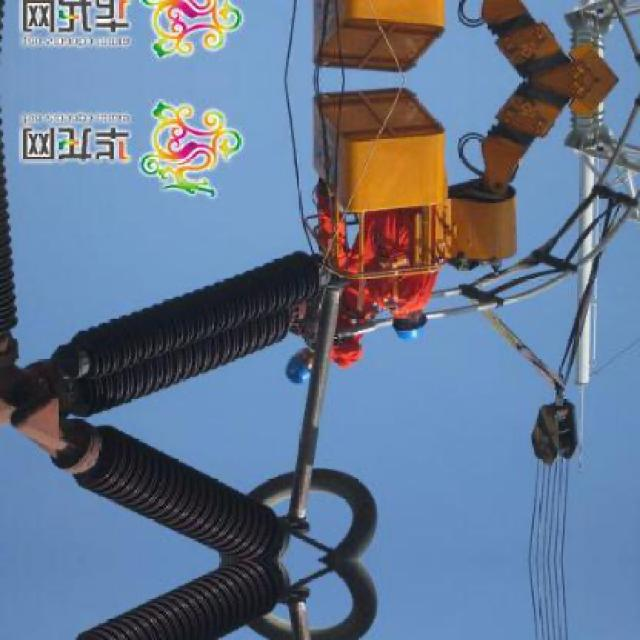con casco: (377, 284, 451, 351), (269, 348, 357, 401)
